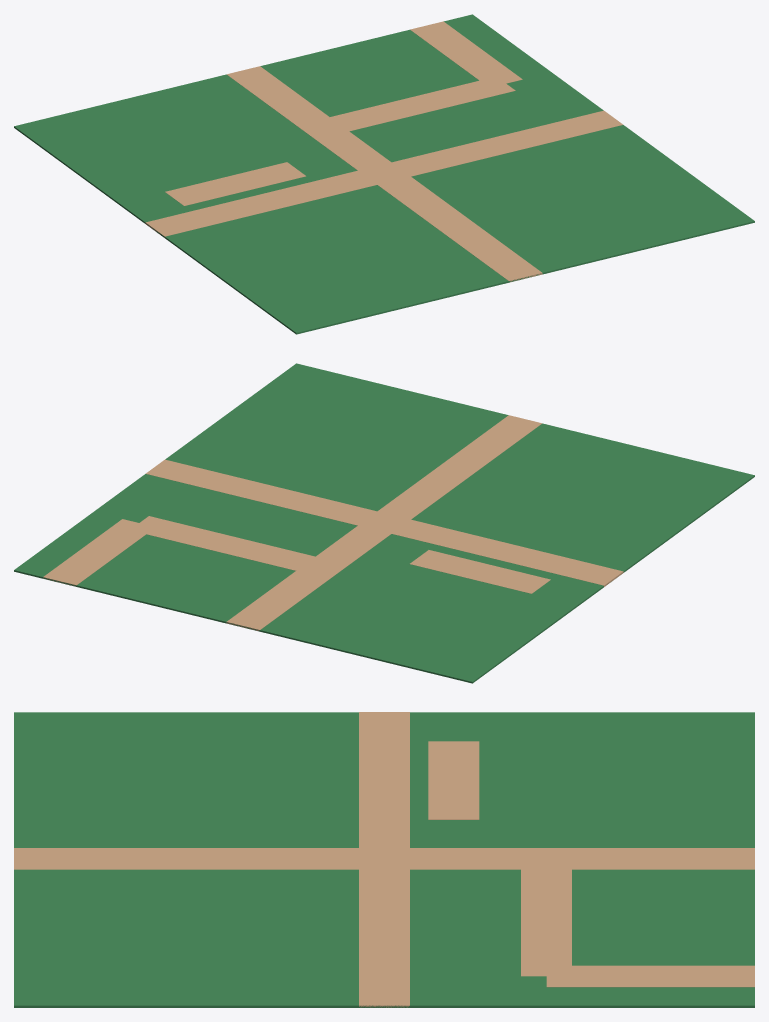
The model's file is park_ground.glb.
3 views of the same model, one above another, from view 1: azimuth 30°, elevation 25°; view 2: azimuth 150°, elevation 25°; view 3: azimuth 270°, elevation 25° (orthographic). The views are drawn at different scales.
Parts seen in each view (by area): view 1: lawn, path; view 2: lawn, path; view 3: lawn, path.
Part boxes in pixels (x1,y1,x2,y2): lawn: (14,14,754,334); path: (145,21,623,282); lawn: (14,363,754,683); path: (43,415,623,630); lawn: (14,712,754,1007); path: (14,712,754,1007).
Size of the model in its own units: 30 by 0.106 by 32.
